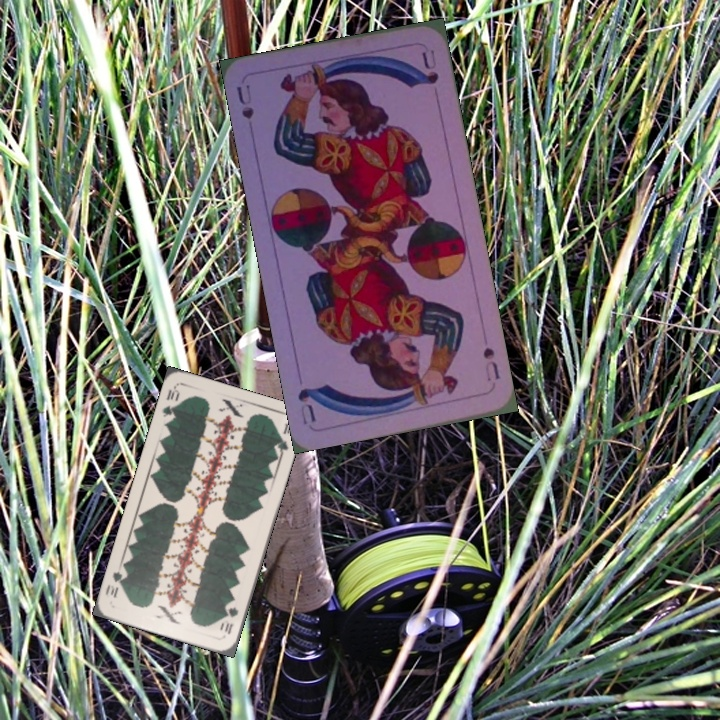G10: (158, 383, 182, 424), (221, 603, 241, 637)
SU: (232, 80, 257, 122), (479, 343, 502, 384)
